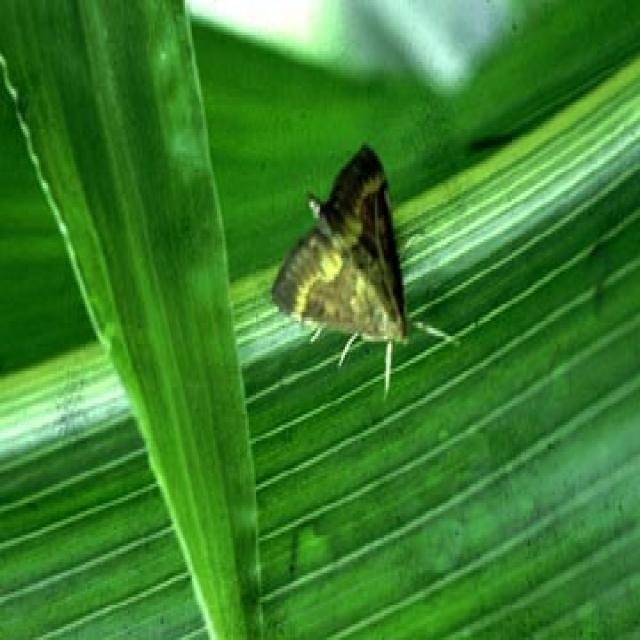cornborer-Adult-: (262, 130, 433, 384)
